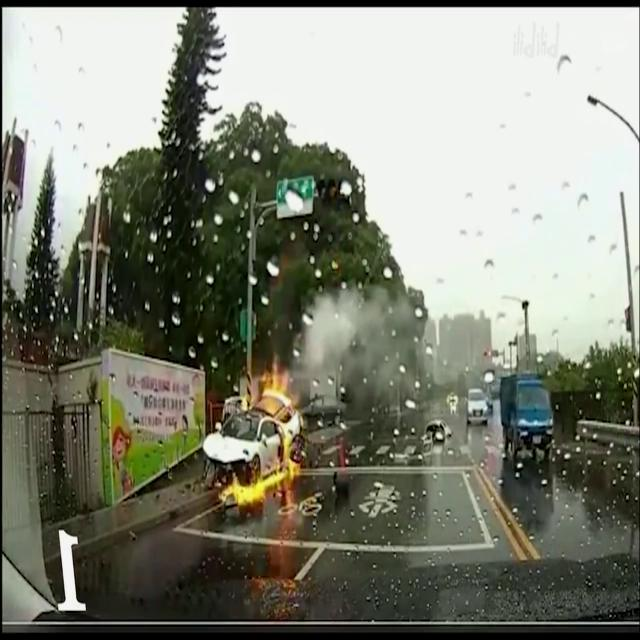accident: (200, 394, 302, 490)
